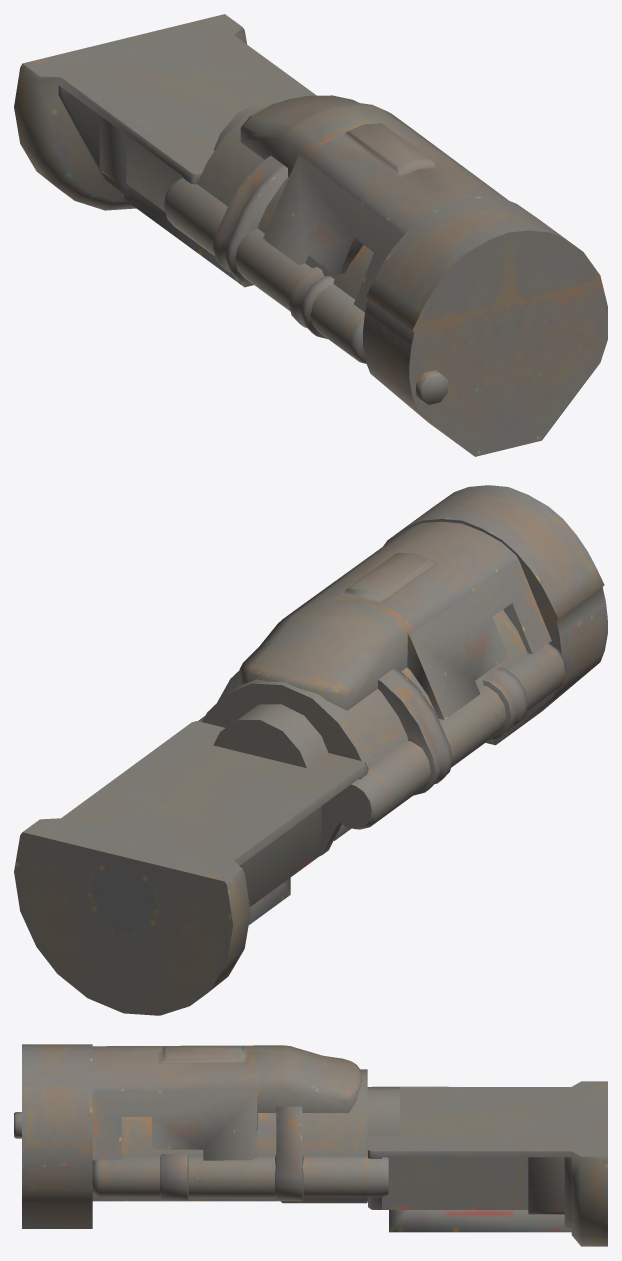
The model's file is body5.obj.
The picture shows the model from 3 angles, top to bottom: view 1: azimuth 30°, elevation 25°; view 2: azimuth 150°, elevation 25°; view 3: azimuth 270°, elevation 25°; orthographic projection. The views are drawn at different scales.
Visible parts, largest first — view 1: body5; view 2: body5; view 3: body5.
Boxes of the visible parts, bbox=[...] form: body5: bbox=[14, 14, 607, 456]; body5: bbox=[14, 485, 607, 1015]; body5: bbox=[14, 1044, 607, 1246].
Size of the model in its own units: 18.2 by 19.36 by 55.16.
